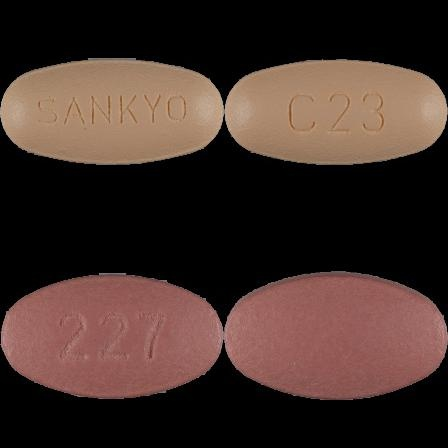50090-1083: (0, 0, 224, 224)
